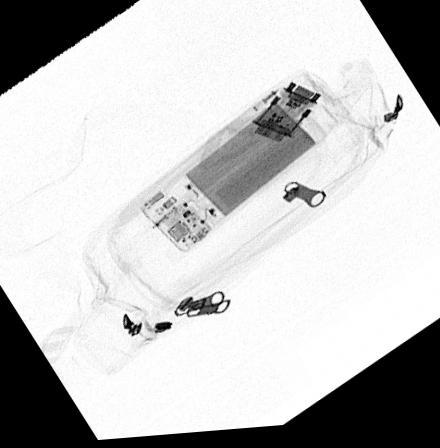Powerbank: (139, 91, 329, 254)
